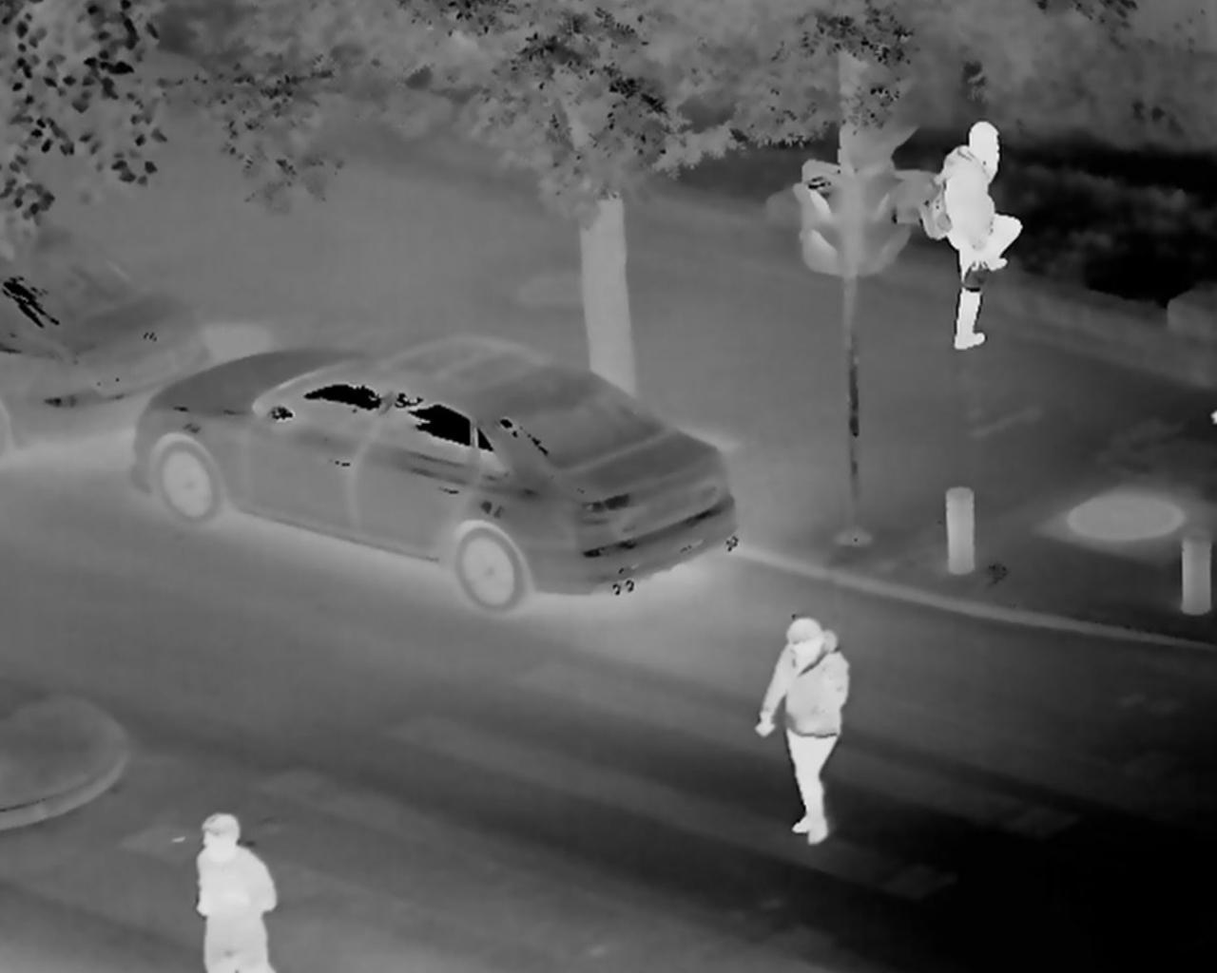person: (921, 116, 1029, 362), (757, 615, 853, 862), (178, 807, 291, 973)
